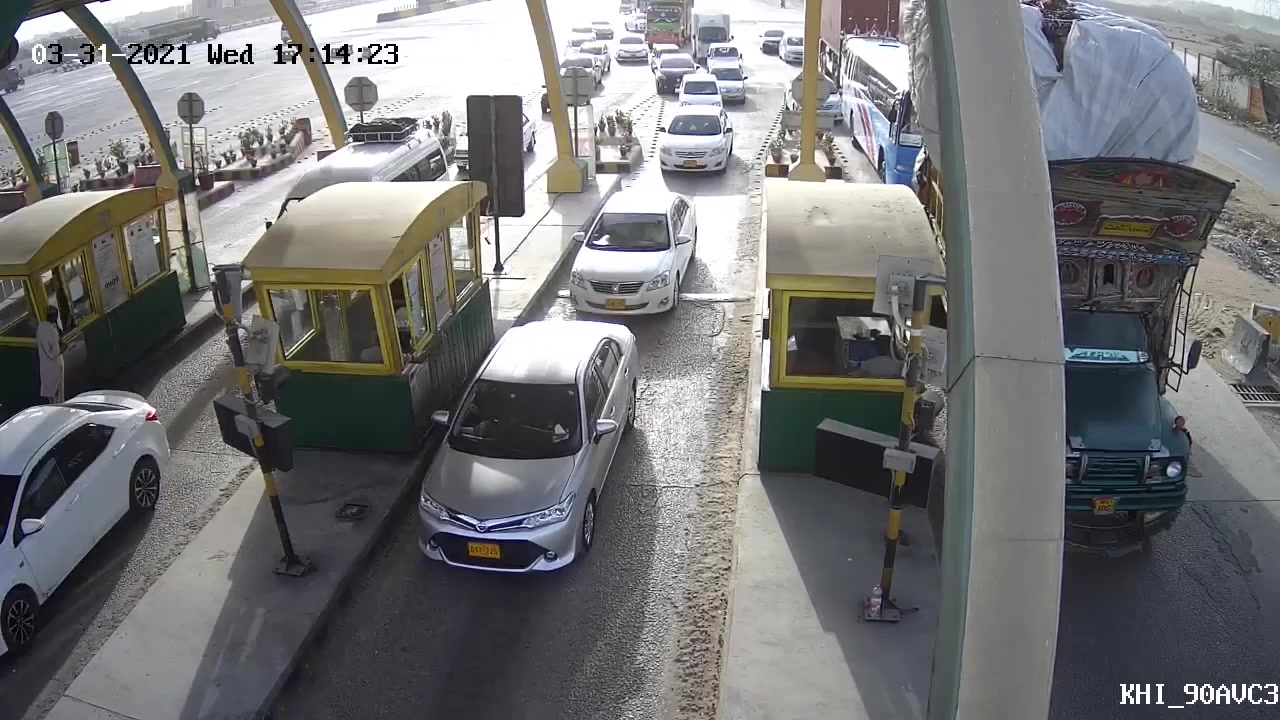F1: (410, 312, 644, 571), (552, 185, 705, 320)
